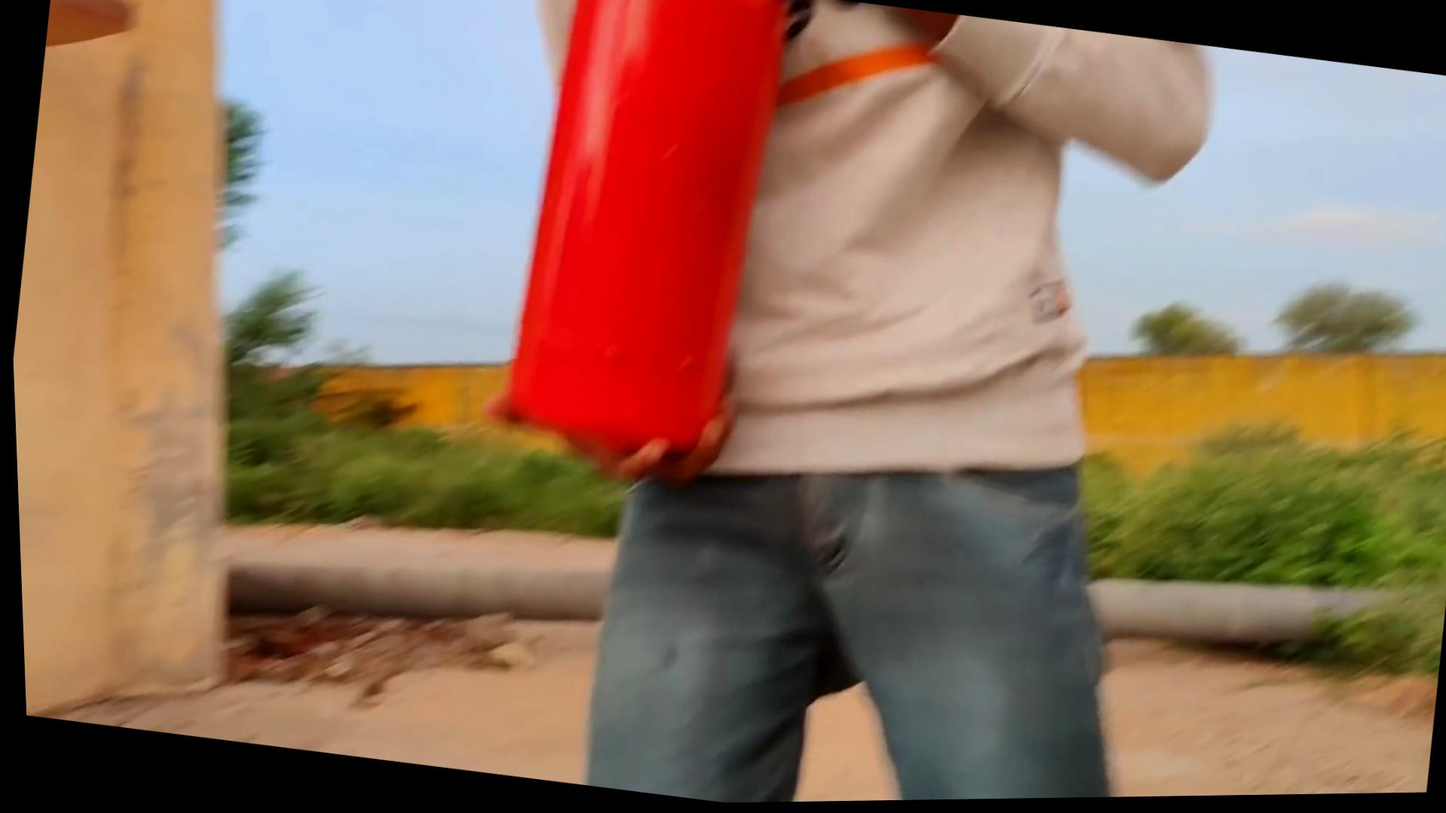FireExtinguisher: (465, 0, 820, 488)
